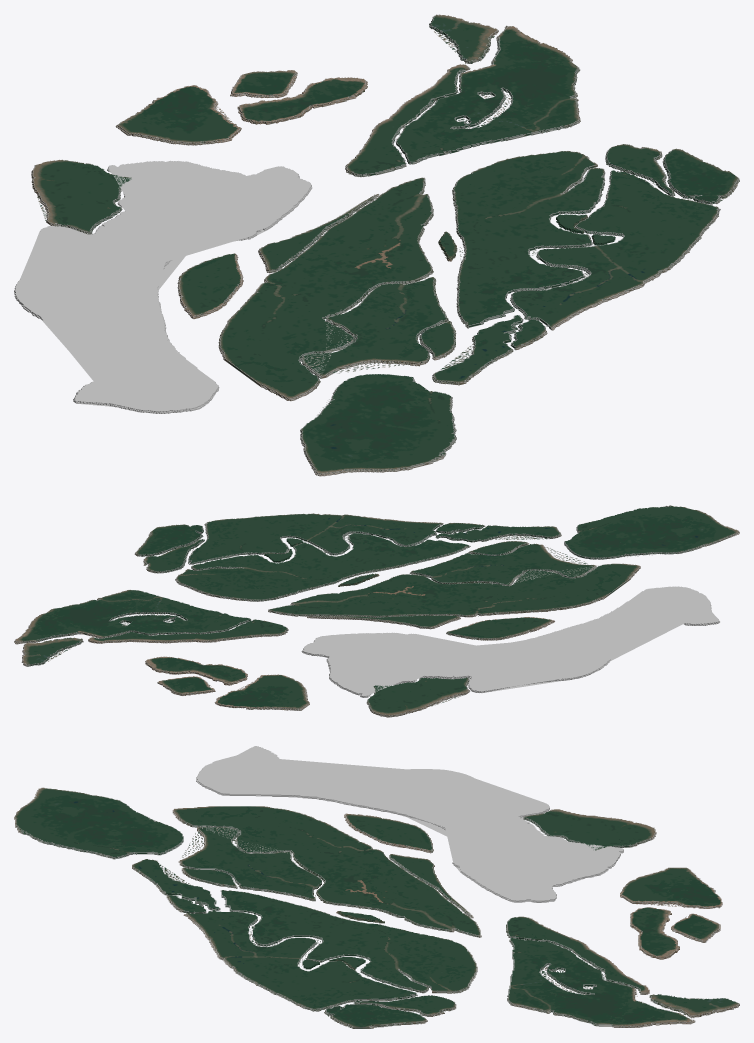
File: Ilhas.fbx
3 views of the same model, one above another, from view 1: azimuth 30°, elevation 25°; view 2: azimuth 150°, elevation 25°; view 3: azimuth 270°, elevation 25° (orthographic). The views are drawn at different scales.
Parts seen in each view (by area): view 1: IlhaAmarAntes1, IlhaDoFarol1, FuroKidney1, IlhaMatinta1, FuroKidney2, IlhaBatativo, IlhaAmarAntes2, IlhaXimba1, CavernaIara, IlhaXimba2, FuroKidney6, FuroKidney3 (+4 smaller); view 2: IlhaAmarAntes1, IlhaDoFarol1, FuroKidney1, IlhaMatinta1, FuroKidney2, IlhaBatativo, IlhaAmarAntes2, IlhaXimba1, CavernaIara, IlhaXimba2, FuroKidney3, FuroKidney6 (+5 smaller); view 3: IlhaAmarAntes1, IlhaDoFarol1, FuroKidney1, IlhaMatinta1, FuroKidney2, IlhaBatativo, IlhaAmarAntes2, IlhaXimba1, CavernaIara, FuroKidney6, IlhaXimba2, FuroKidney3 (+4 smaller).
Boxes of the visible parts, box(x1,y1,x2,y2) form: IlhaAmarAntes1: box(14, 160, 312, 413); IlhaDoFarol1: box(218, 177, 456, 401); FuroKidney1: box(452, 151, 605, 328); IlhaMatinta1: box(345, 25, 580, 177); FuroKidney2: box(510, 170, 720, 330); IlhaBatativo: box(300, 374, 456, 476); IlhaAmarAntes2: box(31, 159, 131, 234); IlhaXimba1: box(115, 85, 241, 145); CavernaIara: box(177, 253, 243, 319); IlhaXimba2: box(237, 77, 367, 124); FuroKidney6: box(662, 148, 739, 204); FuroKidney3: box(432, 315, 523, 385); IlhaAmarAntes1: box(301, 586, 719, 697); IlhaDoFarol1: box(268, 541, 640, 617); FuroKidney1: box(175, 533, 470, 601); IlhaMatinta1: box(14, 589, 288, 644); FuroKidney2: box(188, 513, 443, 564); IlhaBatativo: box(564, 505, 739, 559); IlhaAmarAntes2: box(366, 677, 470, 717); IlhaXimba1: box(214, 674, 309, 710); CavernaIara: box(446, 617, 554, 640); IlhaXimba2: box(145, 656, 247, 685); FuroKidney3: box(435, 525, 561, 542); FuroKidney6: box(134, 524, 203, 556); IlhaAmarAntes1: box(196, 746, 623, 902); IlhaDoFarol1: box(172, 806, 481, 937); FuroKidney1: box(220, 890, 477, 993); IlhaMatinta1: box(506, 916, 695, 1027); FuroKidney2: box(183, 910, 417, 1011); IlhaBatativo: box(14, 787, 183, 859); IlhaAmarAntes2: box(523, 809, 656, 850); IlhaXimba1: box(620, 867, 722, 908); CavernaIara: box(344, 813, 433, 853); FuroKidney6: box(324, 1004, 427, 1028); IlhaXimba2: box(630, 907, 679, 959); FuroKidney3: box(132, 859, 220, 910).
Size of the model in its own units: 6540 by 20 by 7140.
